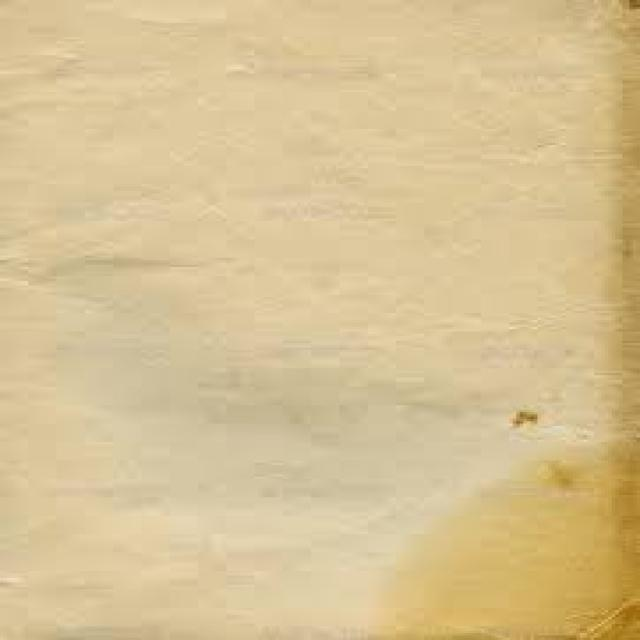cardboard: (0, 0, 636, 637)
